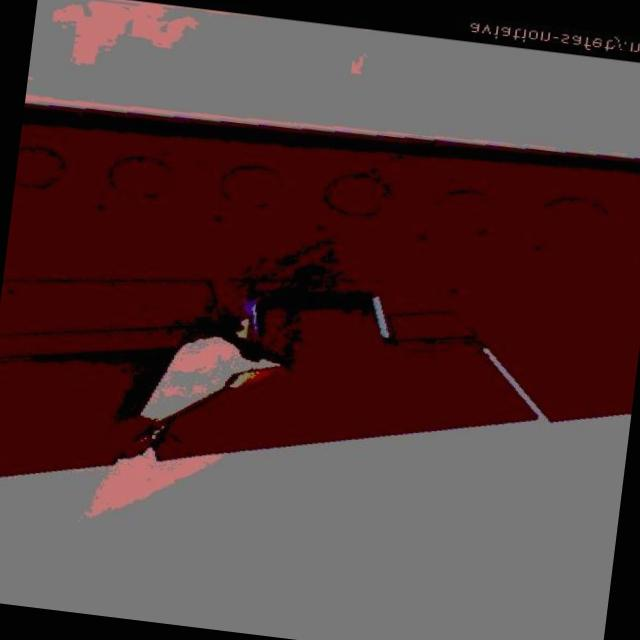crack: (99, 321, 296, 484)
